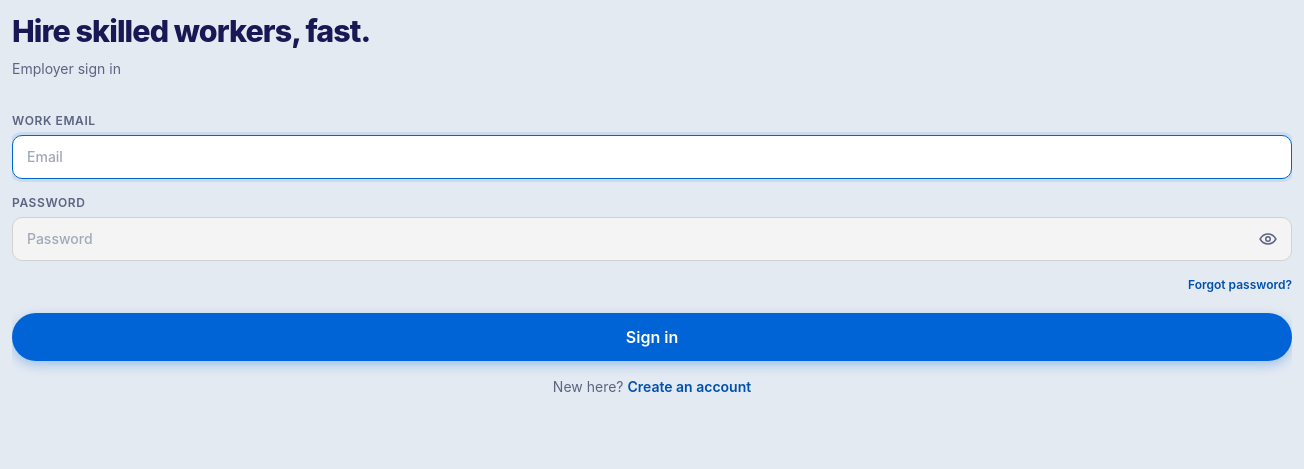
Test: EmployerAuthForm — forgot password for an unconfirmed account › sends a new confirmation code and moves to the confirm step
Click the button "Forgot password?" at [1240, 285], box [1188,277,1292,293]
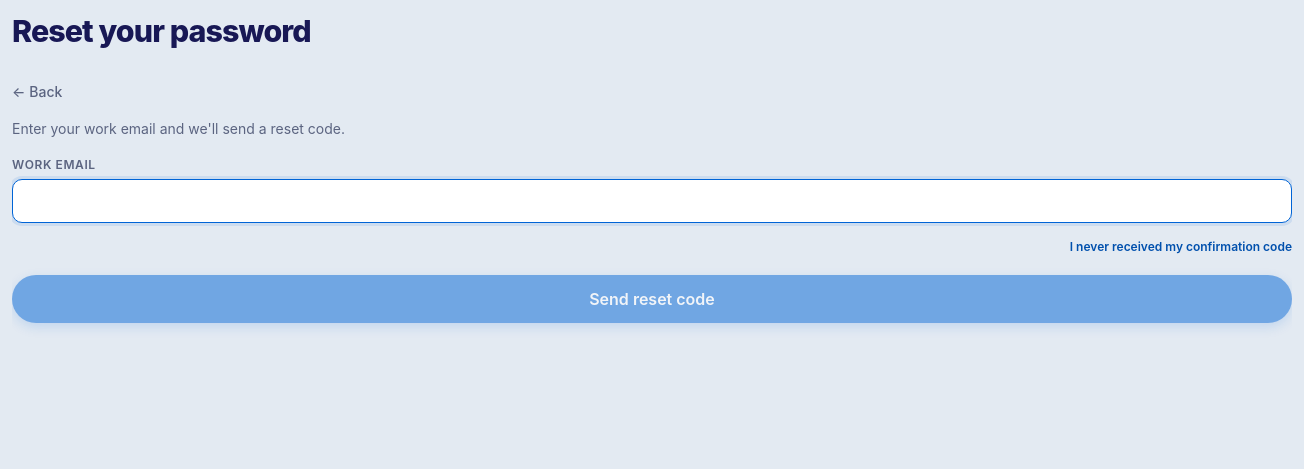
expect the heading "Reset your password" is shown: met, box [12,13,311,49]
Type "unconfirmed@example.com" into the field at [652, 201], box [12,179,1292,223]
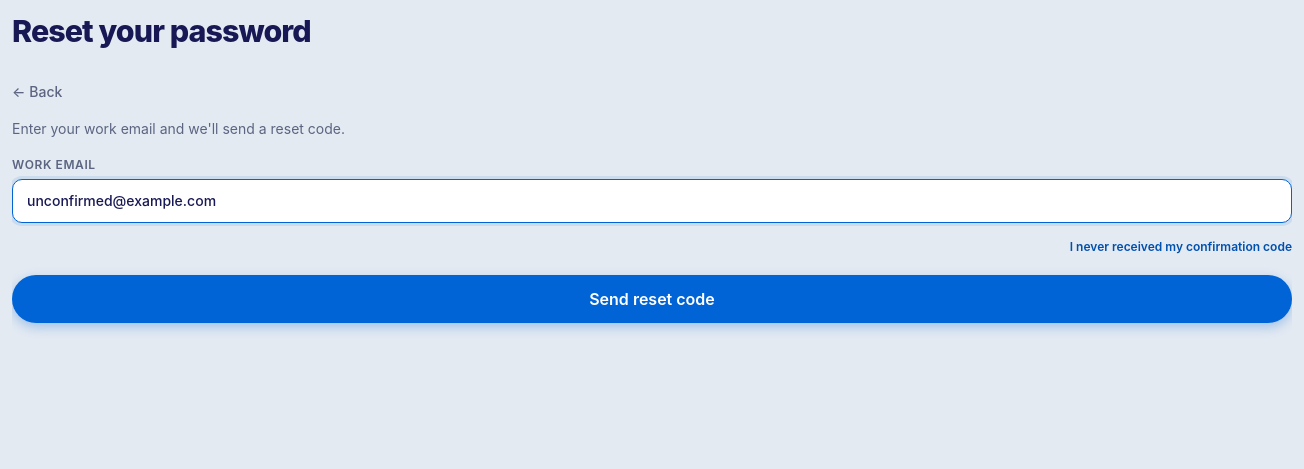
Click the button "Send reset code" at [652, 299], box [12,275,1292,323]
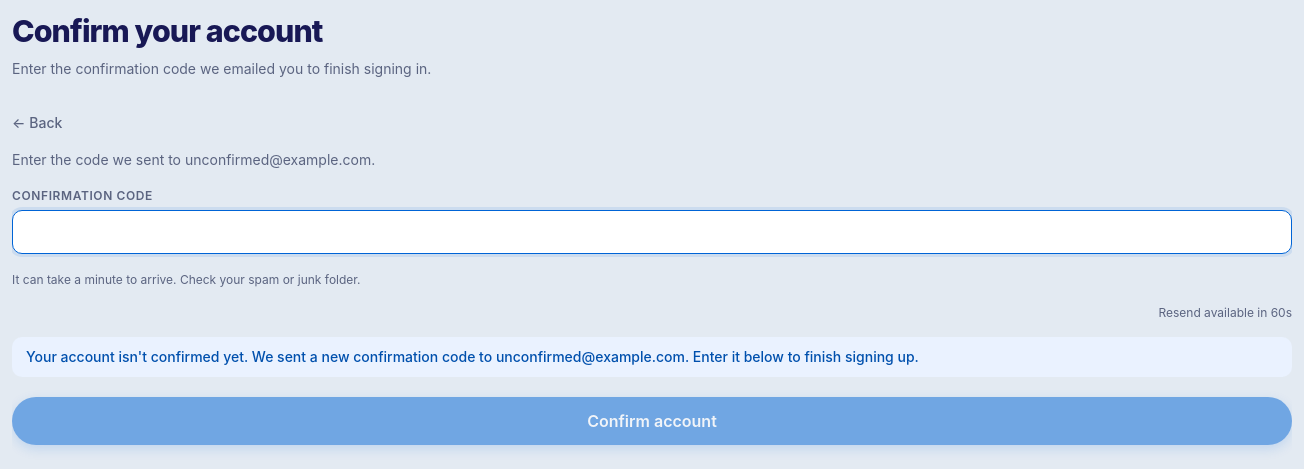
expect the heading "Confirm your account" is shown: met, box [12,13,322,49]
